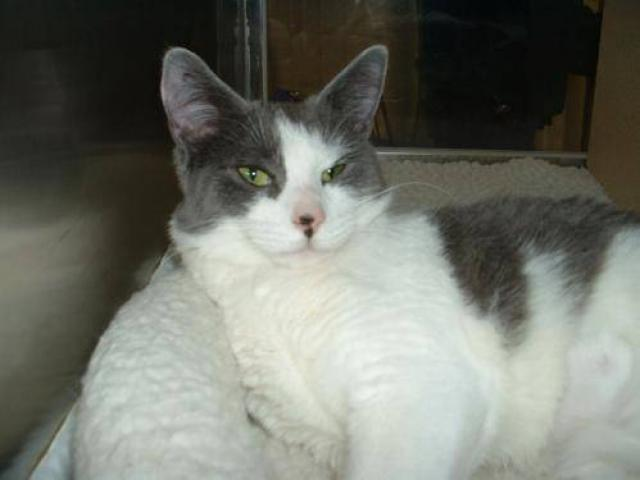cat: (66, 36, 633, 480)
